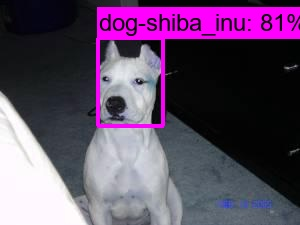dog-american_pit_bull_terrier: (96, 39, 162, 125)
